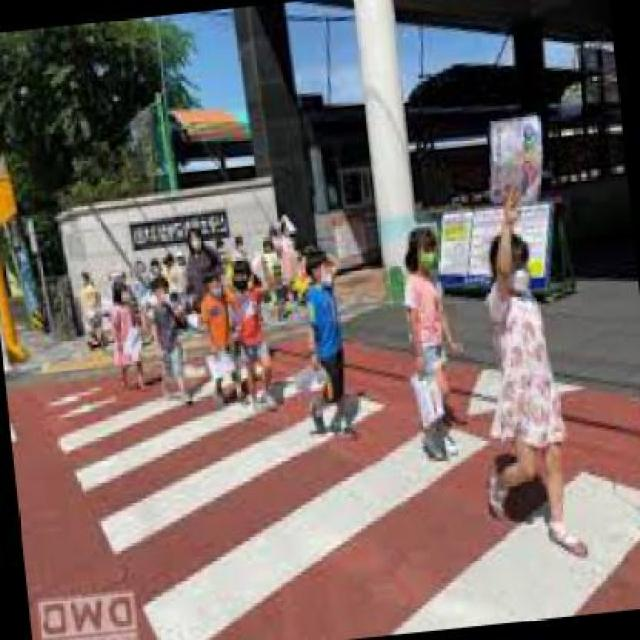obstacle: (458, 183, 585, 568), (398, 224, 469, 464), (294, 246, 357, 440), (221, 254, 279, 415), (196, 271, 247, 415), (143, 275, 195, 410), (105, 273, 149, 395)
